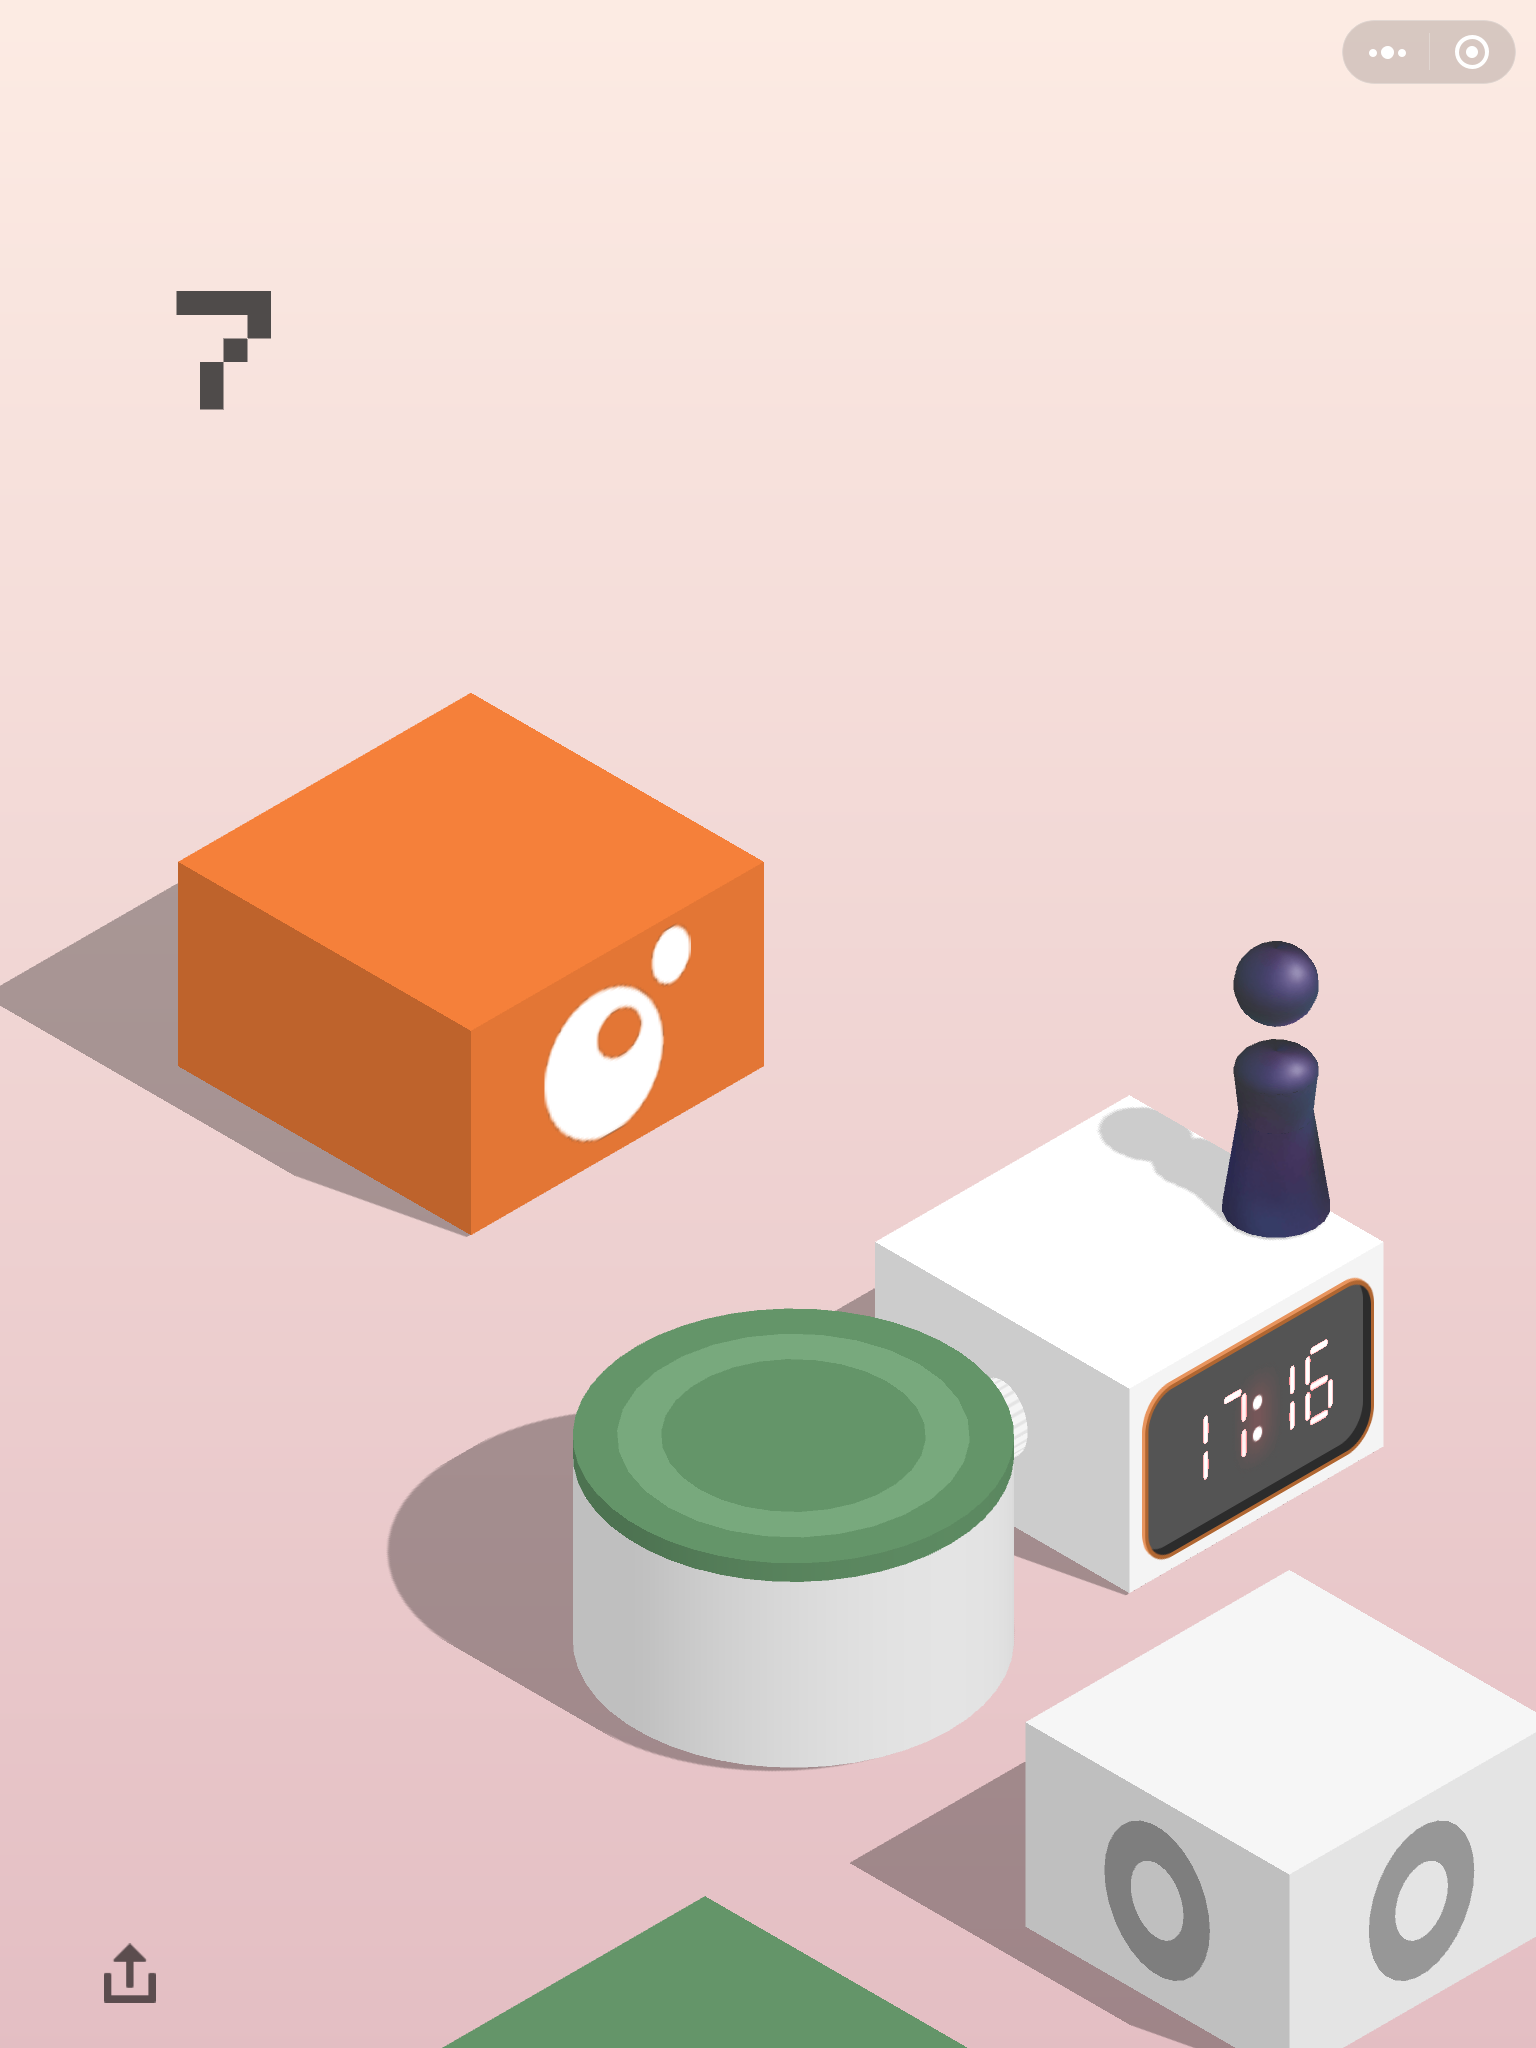c: (563, 1293, 1018, 1769)
f: (177, 689, 771, 1240), (870, 1085, 1400, 1596), (1021, 1571, 1533, 2048)
r: (1217, 935, 1336, 1243)
